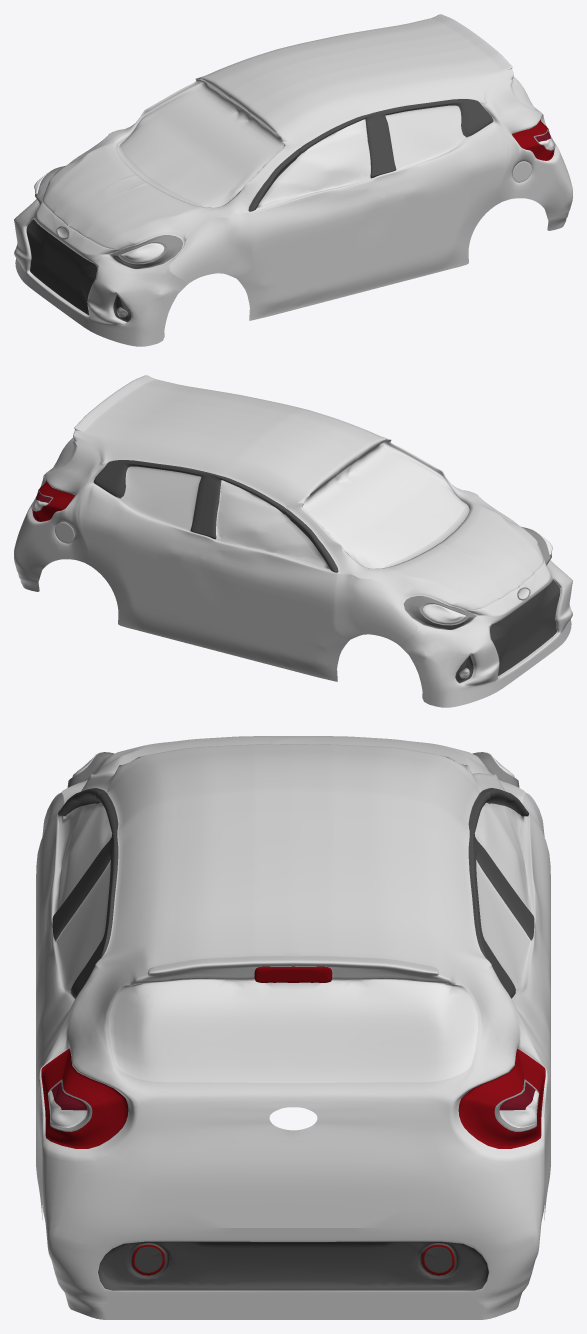
The model's file is auto.fbx.
The picture shows the model from 3 angles, top to bottom: view 1: azimuth 30°, elevation 25°; view 2: azimuth 150°, elevation 25°; view 3: azimuth 270°, elevation 25°; orthographic projection. The views are drawn at different scales.
Parts seen in each view (by area): view 1: Círculo; view 2: Círculo; view 3: Círculo.
Part boxes in pixels (x1,y1,x2,y2): Círculo: (14, 14, 572, 346); Círculo: (14, 375, 572, 707); Círculo: (36, 736, 550, 1319).
Bounding box in the file's own units: 132 × 274 × 100.
